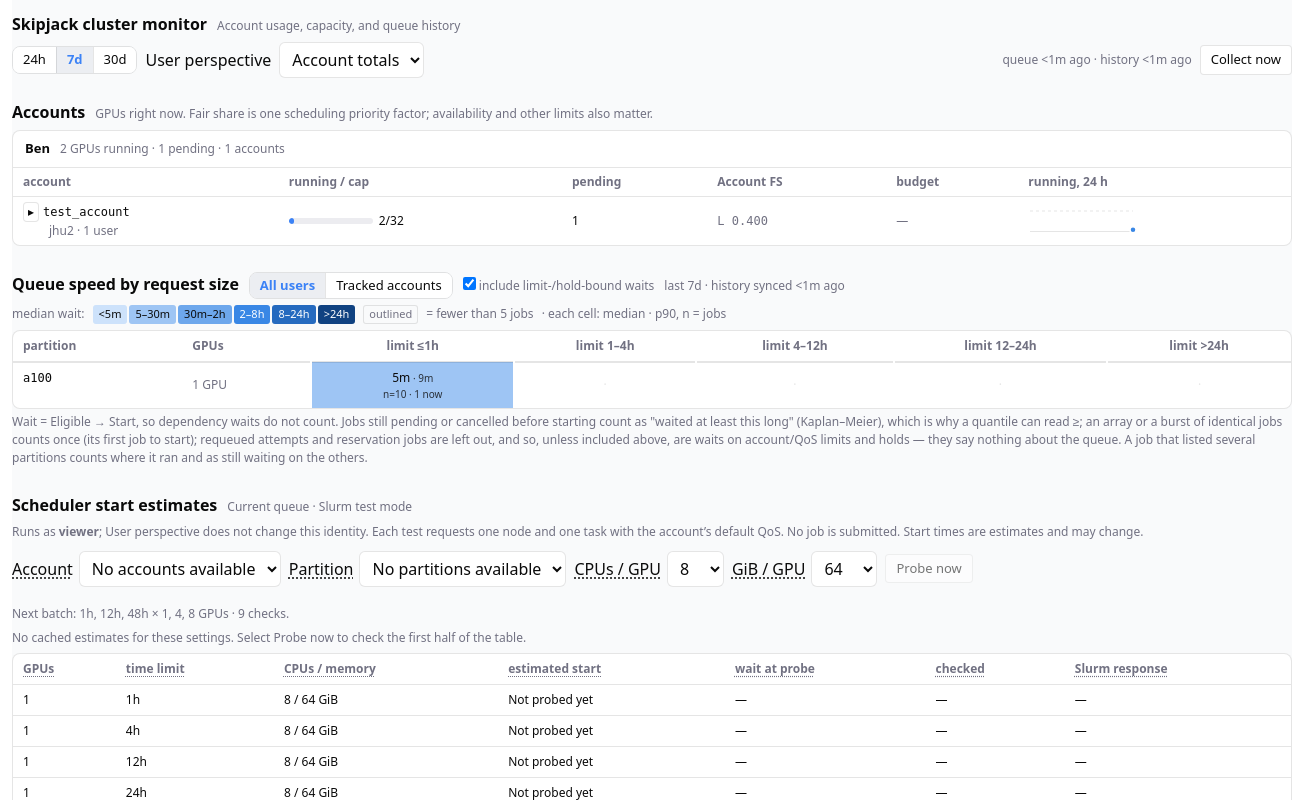
it: selects a user without changing account totals or collection settings
This screenshot has width=1304, height=800.
Expected: the text "best FS" is not shown
Step 1. Select "viewer" in the dropdown labelled "User perspective" → (352, 60), box [279,42,424,78]
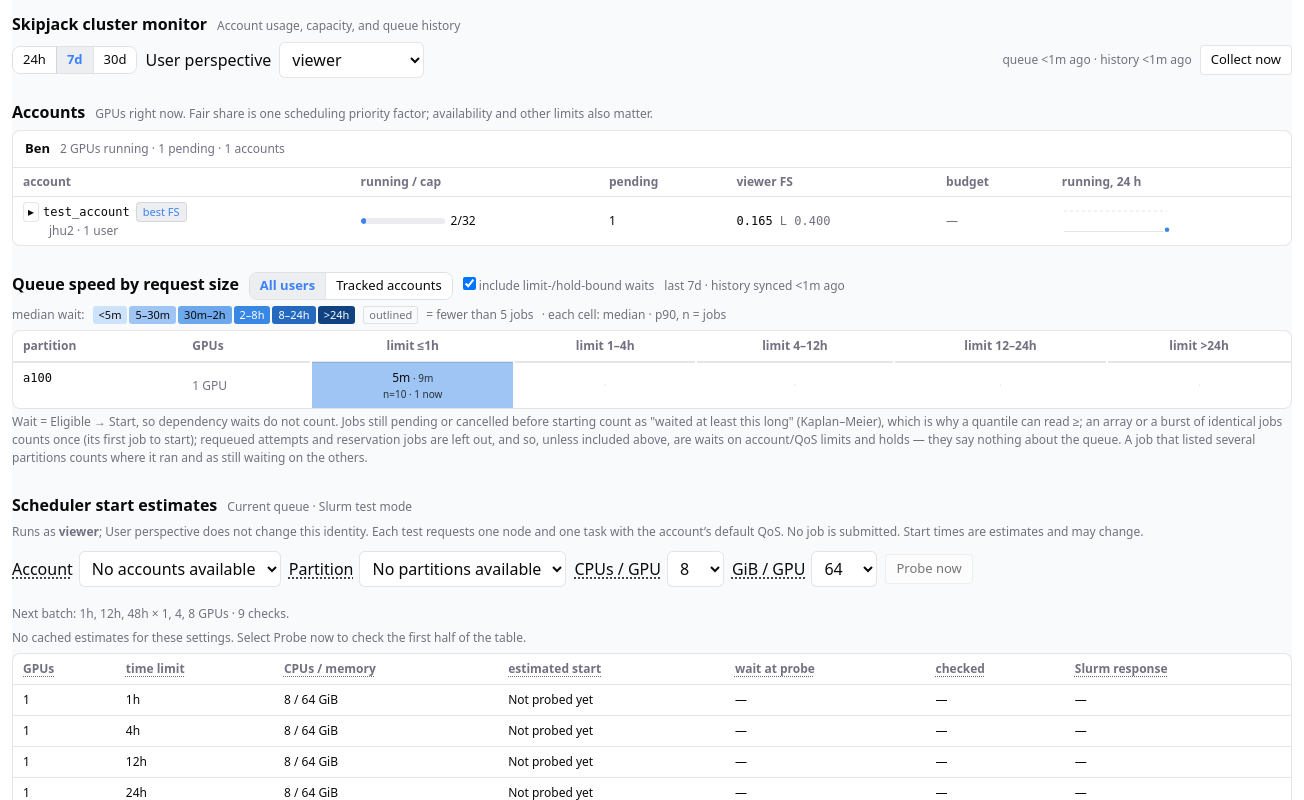
Result: the text "viewer FS" is shown at [726,168,936,196]
Result: the text "0.165" is shown at [736,214,773,228]
Step 2. Select "Account totals" in the dropdown labelled "User perspective" → (352, 60), box [279,42,424,78]
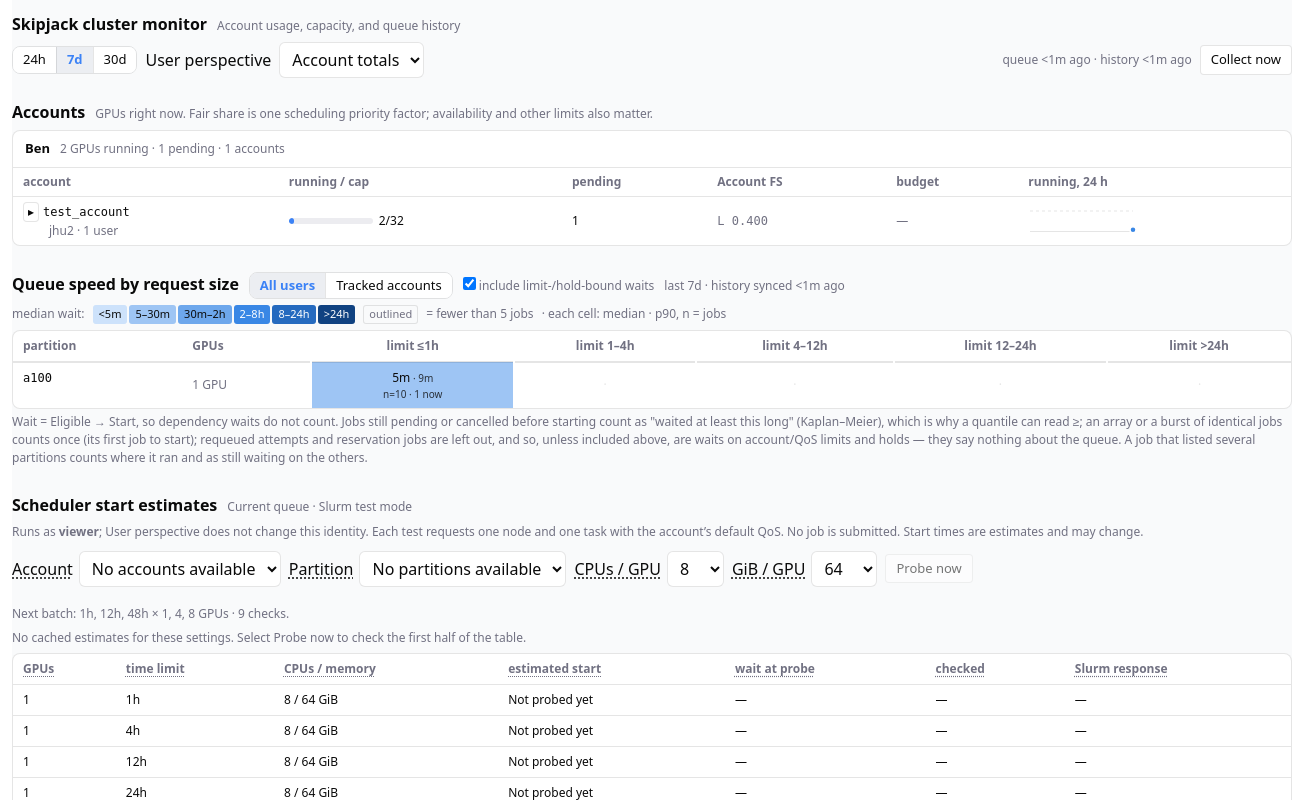
Result: the text "Account FS" is shown at [707,168,886,196]
Result: the text "best FS" is gone
